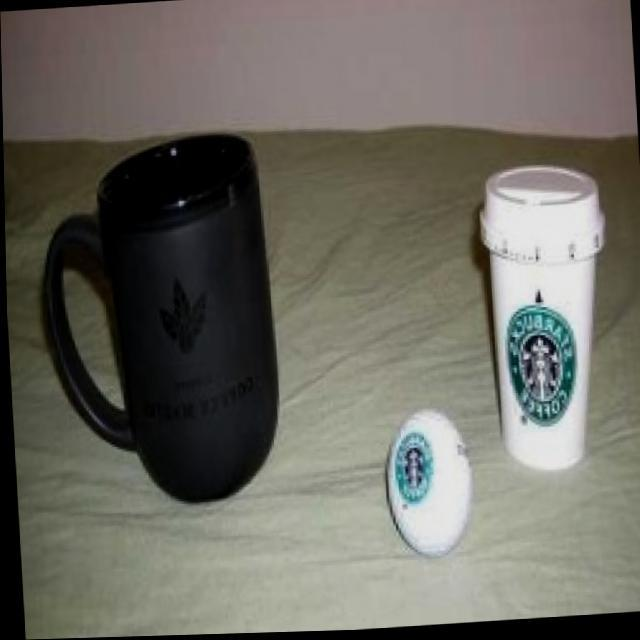cup: (22, 140, 287, 500)
